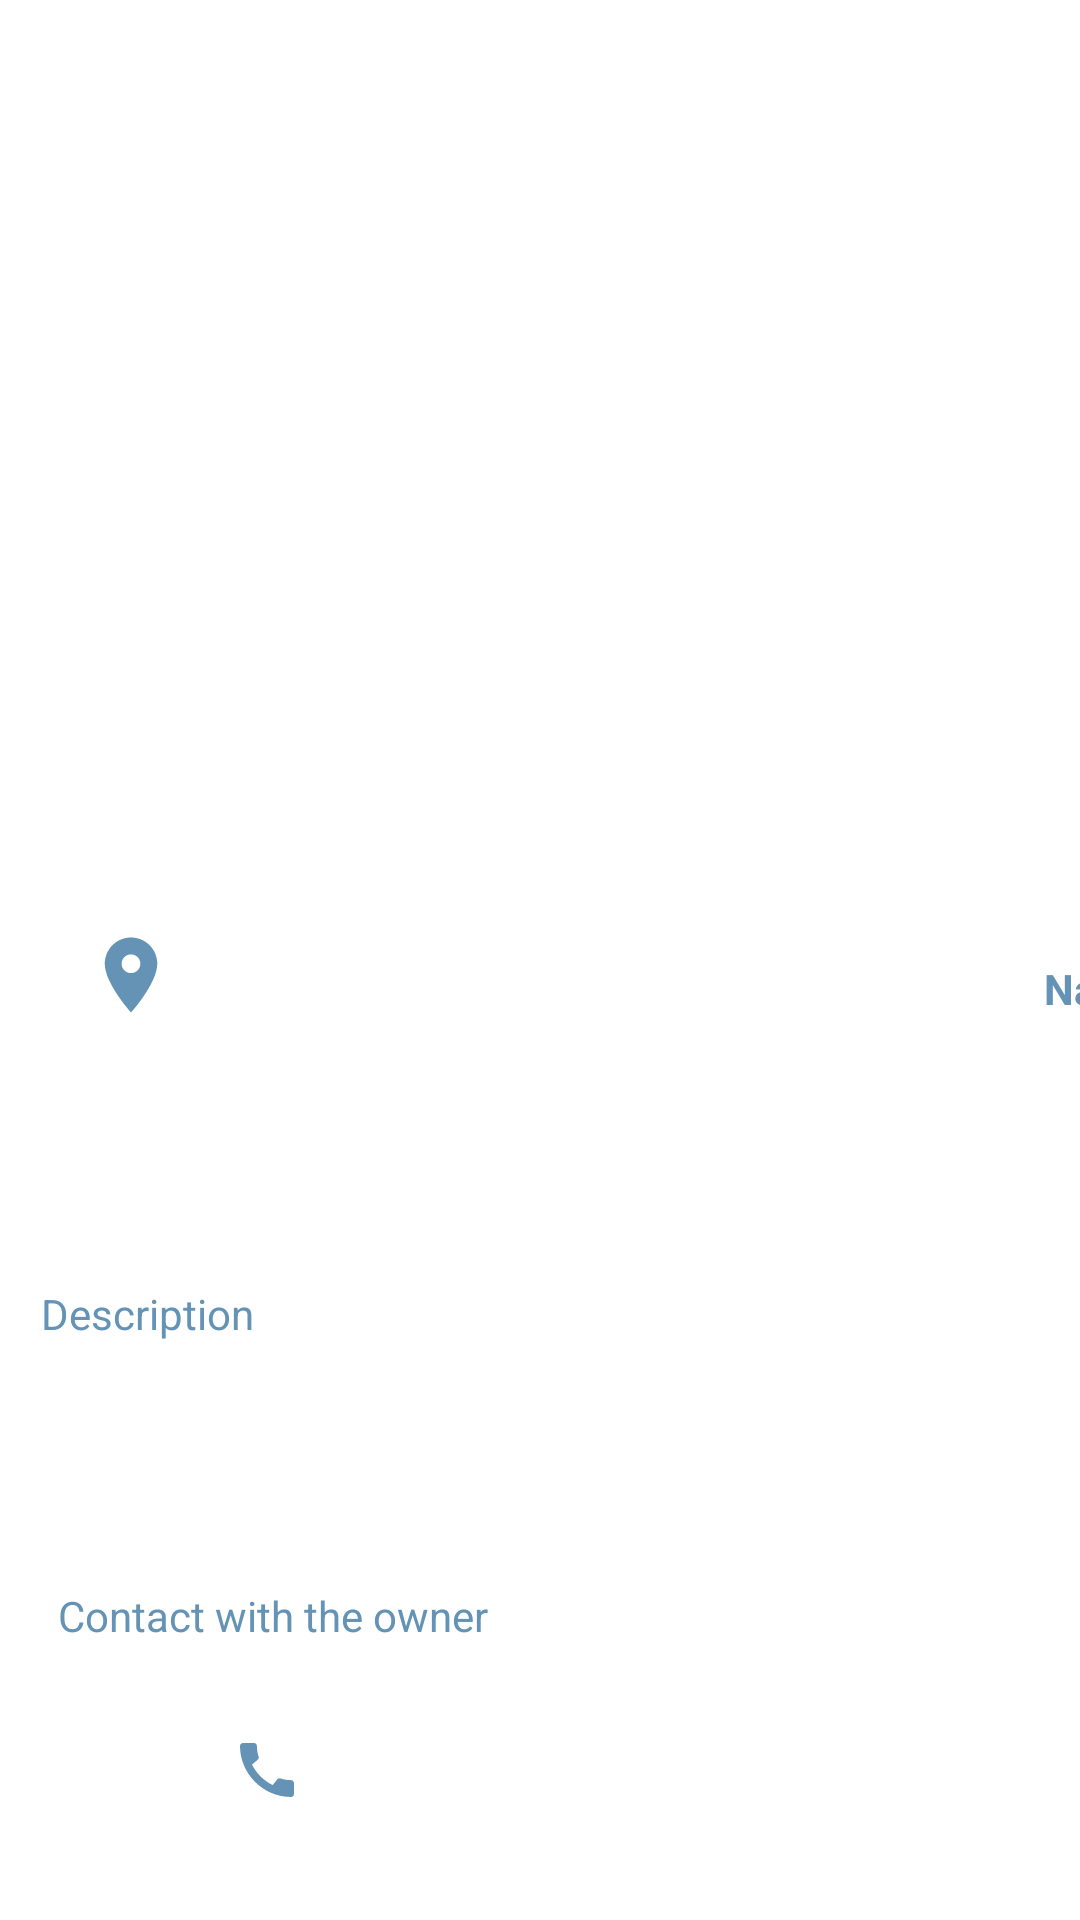

Screen size 1080px x 1920px. Icon name, then its box in pixels as (x1, y1, x2, y2):
call: (240, 1743, 294, 1797)
location: (104, 937, 158, 1012)
